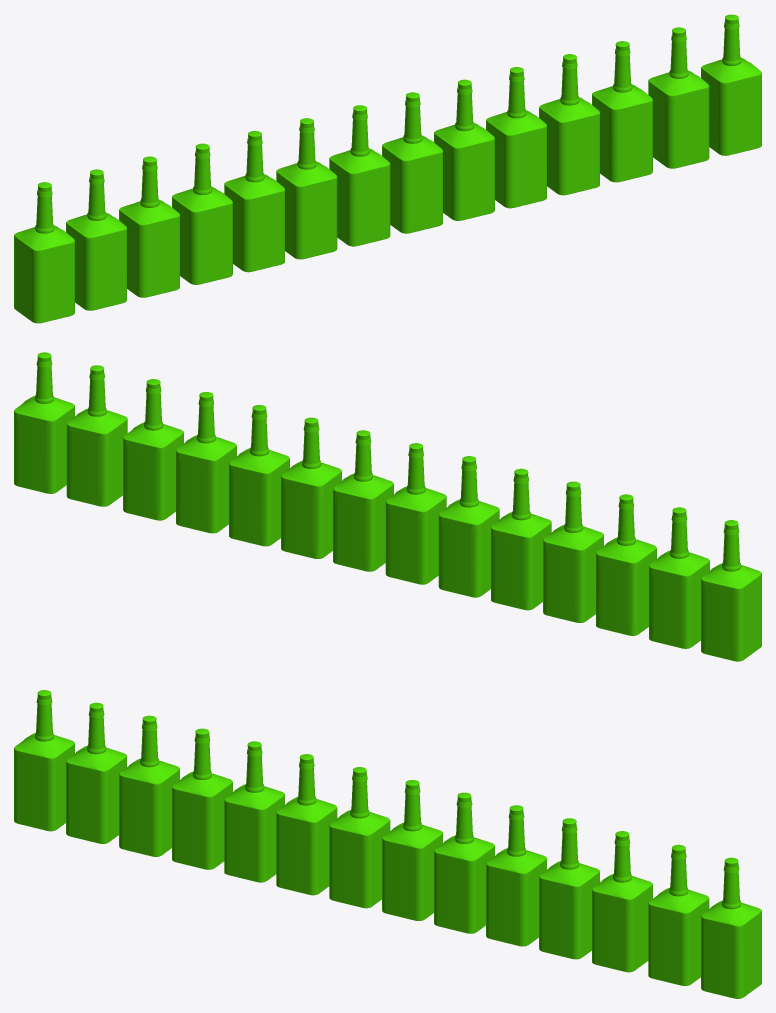
Rendered from Jackdaniels.fbx.
3 renders of one model, top to bottom at view 1: azimuth 30°, elevation 25°; view 2: azimuth 150°, elevation 25°; view 3: azimuth 330°, elevation 25°, orthographic.
Visible parts, largest first — view 1: Jackdaniels1, Jackdaniels13, Jackdaniels6, Jackdaniels2, Jackdaniels10, Jackdaniels4, Jackdaniels7, Jackdaniels11, Jackdaniels12, Jackdaniels3, Jackdaniels, Jackdaniels5 (+2 smaller); view 2: Jackdaniels1, Jackdaniels13, Jackdaniels6, Jackdaniels7, Jackdaniels4, Jackdaniels2, Jackdaniels12, Jackdaniels10, Jackdaniels3, Jackdaniels11, Jackdaniels8, Jackdaniels5 (+2 smaller); view 3: Jackdaniels12, Jackdaniels11, Jackdaniels4, Jackdaniels6, Jackdaniels13, Jackdaniels8, Jackdaniels10, Jackdaniels, Jackdaniels2, Jackdaniels3, Jackdaniels5, Jackdaniels1 (+2 smaller).
Boxes of the visible parts, box(x1,y1,x2,y2) form: Jackdaniels1: box(14, 182, 74, 323); Jackdaniels13: box(648, 27, 709, 168); Jackdaniels6: box(329, 105, 390, 246); Jackdaniels2: box(119, 156, 179, 297); Jackdaniels10: box(539, 54, 599, 195); Jackdaniels4: box(276, 118, 337, 259); Jackdaniels7: box(382, 92, 442, 233); Jackdaniels11: box(592, 41, 652, 182); Jackdaniels12: box(701, 14, 761, 155); Jackdaniels3: box(172, 143, 232, 284); Jackdaniels: box(66, 169, 126, 310); Jackdaniels5: box(224, 131, 284, 272); Jackdaniels1: box(701, 520, 761, 661); Jackdaniels13: box(66, 365, 127, 506); Jackdaniels6: box(385, 443, 446, 584); Jackdaniels7: box(333, 430, 393, 571); Jackdaniels4: box(438, 456, 499, 597); Jackdaniels2: box(596, 494, 656, 635); Jackdaniels12: box(14, 352, 74, 493); Jackdaniels10: box(176, 392, 236, 533); Jackdaniels3: box(543, 481, 603, 622); Jackdaniels11: box(123, 379, 183, 520); Jackdaniels8: box(229, 405, 289, 546); Jackdaniels5: box(491, 468, 551, 610); Jackdaniels12: box(701, 857, 761, 998); Jackdaniels11: box(592, 831, 652, 972); Jackdaniels4: box(276, 754, 337, 895); Jackdaniels6: box(329, 767, 390, 908); Jackdaniels13: box(648, 844, 709, 985); Jackdaniels8: box(486, 805, 546, 946); Jackdaniels10: box(539, 818, 599, 959); Jackdaniels: box(66, 702, 126, 843); Jackdaniels2: box(119, 715, 179, 856); Jackdaniels3: box(172, 728, 232, 869); Jackdaniels5: box(224, 741, 284, 882); Jackdaniels1: box(14, 690, 74, 831).
Bounding box in the file's own units: 207 × 34.21 × 11.93.
